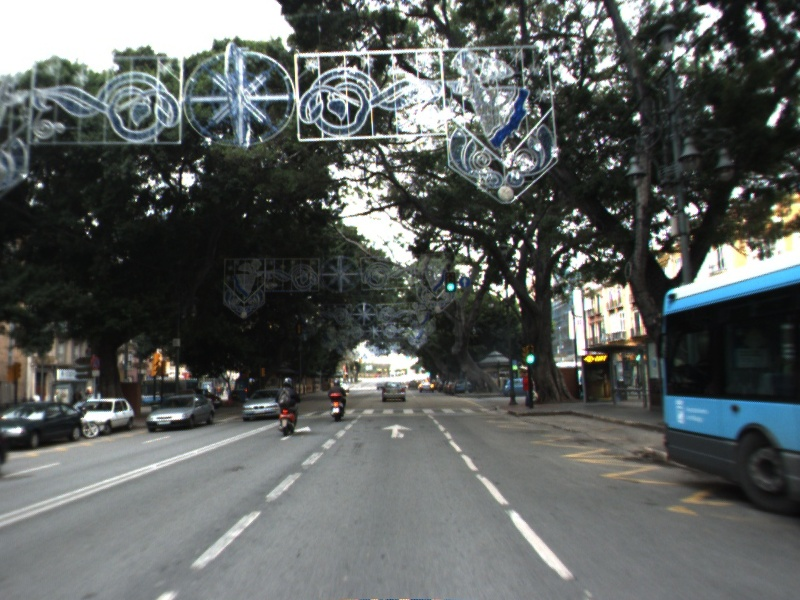STRAIGHT: (379, 422, 415, 440), (278, 424, 313, 442)
